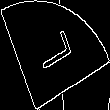L_SW: (32, 30, 78, 80)
